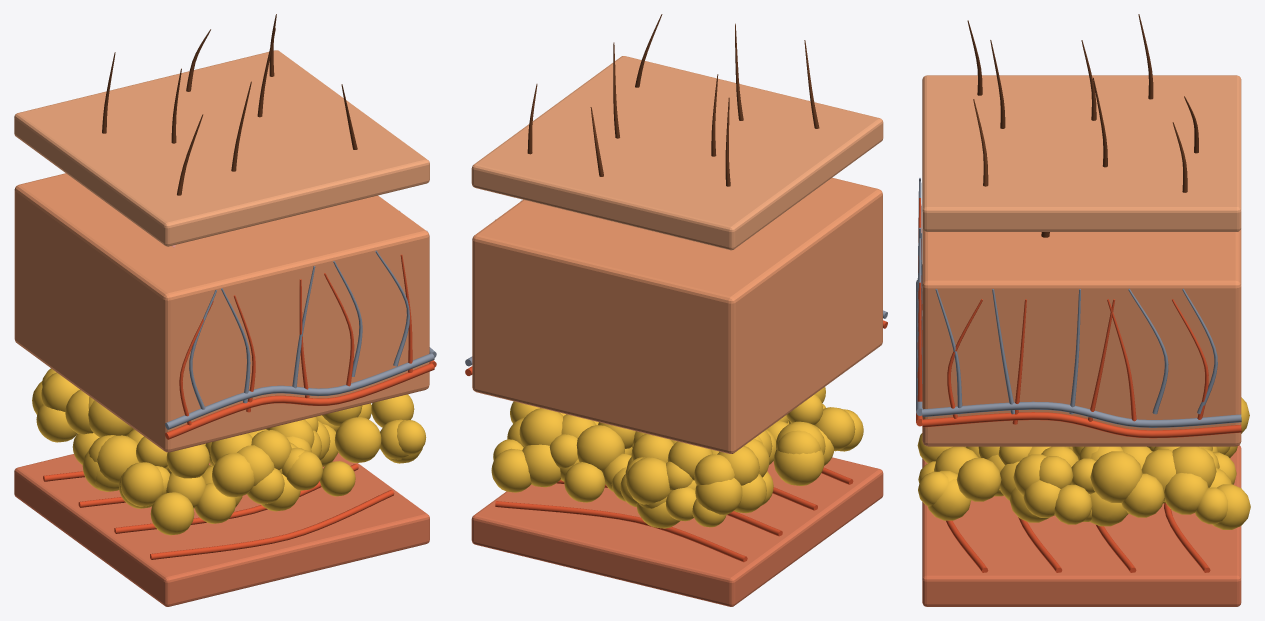
File: skin.glb
3 renders of one model, left to right at view 1: azimuth 30°, elevation 25°; view 2: azimuth 150°, elevation 25°; view 3: azimuth 270°, elevation 25°, orthographic. The views are drawn at different scales.
Parts seen in each view (by area): view 1: dermis.001, epidermis.001, muscle.001, artery front, vein front, muscle vessel 3, fat cell 147, fat cell 55, fat cell 5, fat cell 17, fat cell 135, fat cell 23 (+19 smaller); view 2: dermis.001, epidermis.001, muscle.001, fat cell 128, muscle vessel 0, fat cell 40, fat cell 47, fat cell 39, fat cell 6, fat cell 68, fat cell 69, fat cell 62 (+11 smaller); view 3: dermis.001, epidermis.001, muscle.001, artery side, vein side, fat cell 42, fat cell 9, fat cell 60, fat cell 49, fat cell 3, fat cell 6, fat cell 39 (+26 smaller).
Boxes of the visible parts, <box> form: dermis.001: <box>14,173,429,452</box>; epidermis.001: <box>14,50,429,246</box>; muscle.001: <box>14,452,429,606</box>; artery front: <box>165,363,434,439</box>; vein front: <box>165,353,434,429</box>; muscle vessel 3: <box>150,490,394,559</box>; fat cell 147: <box>334,417,381,463</box>; fat cell 55: <box>120,462,163,506</box>; fat cell 5: <box>150,492,194,535</box>; fat cell 17: <box>212,453,254,497</box>; fat cell 135: <box>97,435,138,484</box>; fat cell 23: <box>166,444,209,478</box>; dermis.001: <box>472,177,882,453</box>; epidermis.001: <box>471,56,883,250</box>; muscle.001: <box>471,457,883,606</box>; fat cell 128: <box>626,457,670,504</box>; muscle vessel 0: <box>495,501,747,562</box>; fat cell 40: <box>576,425,624,472</box>; fat cell 47: <box>773,449,824,485</box>; fat cell 39: <box>491,448,531,492</box>; fat cell 6: <box>519,408,563,446</box>; fat cell 68: <box>564,462,605,502</box>; fat cell 69: <box>695,478,742,515</box>; fat cell 62: <box>522,444,560,487</box>; dermis.001: <box>922,228,1241,446</box>; epidermis.001: <box>922,75,1241,231</box>; muscle.001: <box>922,445,1241,606</box>; artery side: <box>922,412,1241,438</box>; vein side: <box>922,401,1241,427</box>; fat cell 42: <box>1090,451,1142,502</box>; fat cell 9: <box>956,458,1001,501</box>; fat cell 60: <box>1164,473,1208,514</box>; fat cell 49: <box>1121,473,1164,517</box>; fat cell 3: <box>1054,484,1092,524</box>; fat cell 6: <box>1172,446,1216,487</box>; fat cell 39: <box>1212,484,1250,529</box>.
Bounding box in the file's own units: 2.94 × 4.78 × 2.94.
